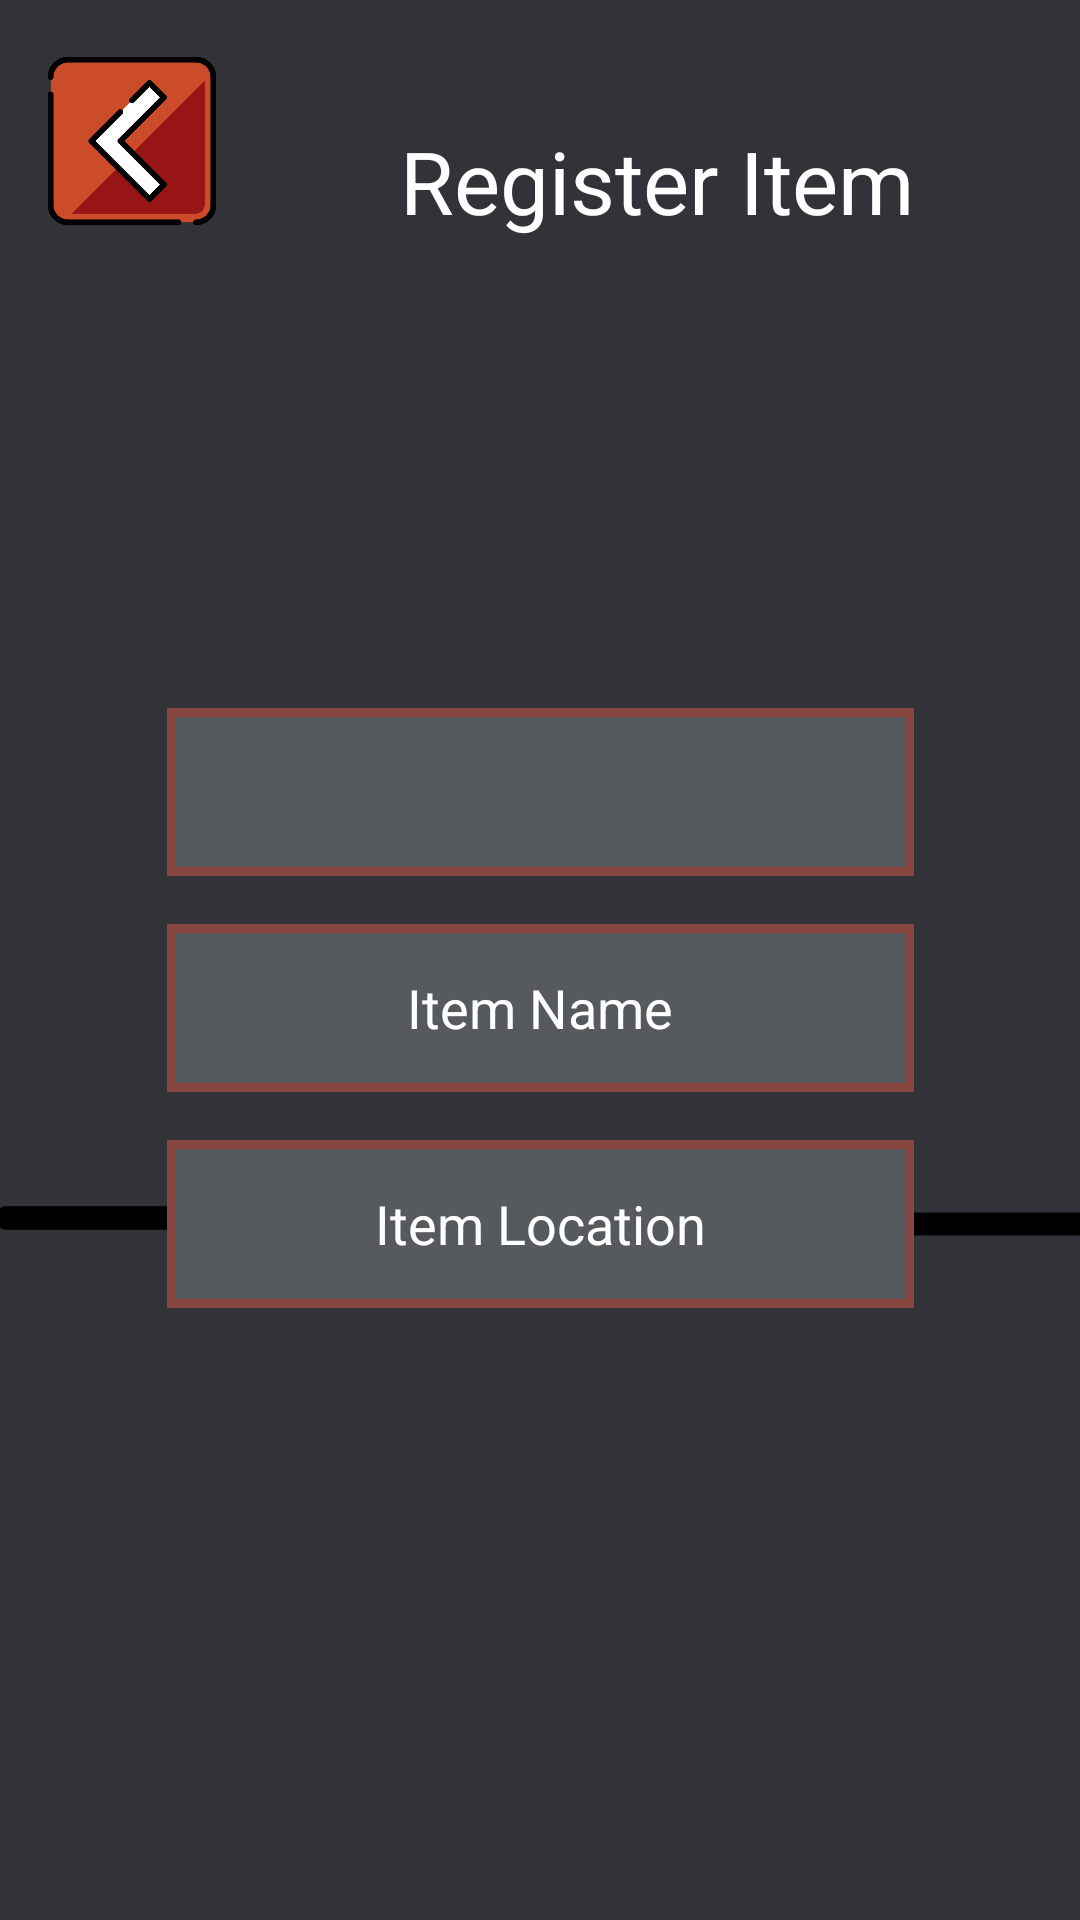

Screen size 1080*1920. Icon name, then its box in pixels as {"left": x1, "top": y1, "right": x2, "bottom": y2}:
backbutton: {"left": 48, "top": 57, "right": 216, "bottom": 225}
